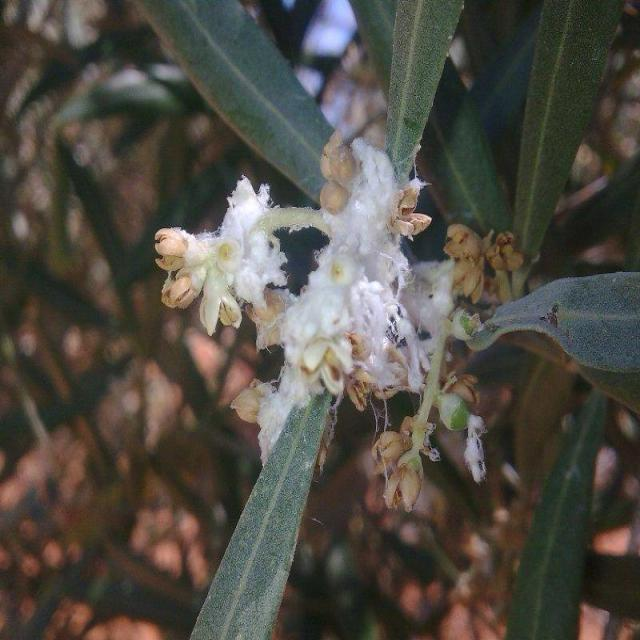Psyllid: (310, 139, 429, 410), (155, 176, 330, 335), (231, 277, 343, 463), (402, 259, 483, 340), (373, 417, 439, 511), (463, 412, 487, 484), (262, 336, 265, 340)
